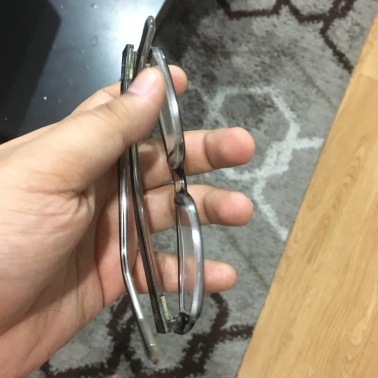glasses: (80, 28, 248, 354)
